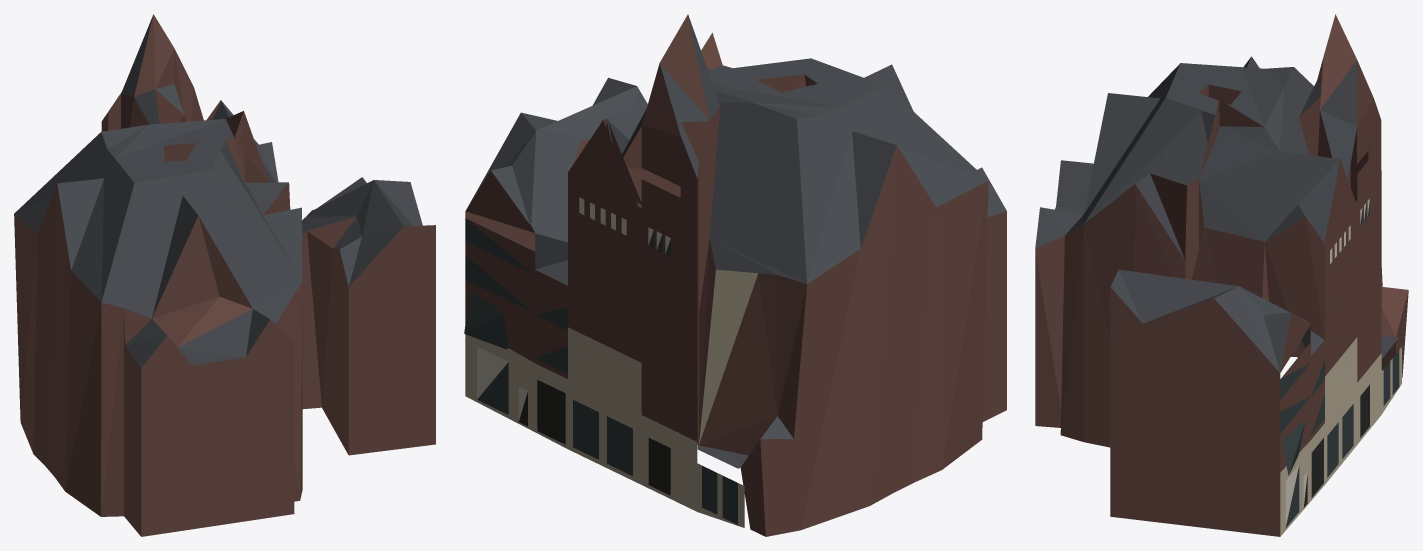
File: industrieele-groote-club.lod2.glb
The picture shows the model from 3 angles, left to right: view 1: azimuth 30°, elevation 25°; view 2: azimuth 150°, elevation 25°; view 3: azimuth 270°, elevation 25°; orthographic projection. The views are drawn at different scales.
Parts seen in each view (by area): view 1: lod2; view 2: lod2; view 3: lod2.
Part boxes in pixels (x1,y1,x2,y2): lod2: (14,14,435,536); lod2: (464,14,1006,536); lod2: (1035,14,1408,536).
Bounding box in the file's own units: 40.62 × 41.98 × 34.14.
